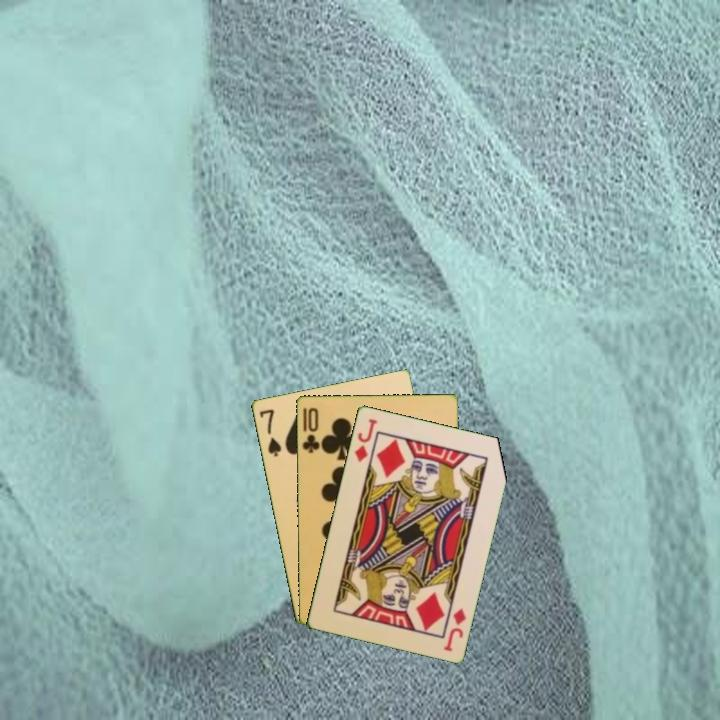10c: (298, 404, 322, 455)
7s: (256, 405, 284, 459)
Jd: (440, 604, 469, 654), (351, 415, 380, 464)
